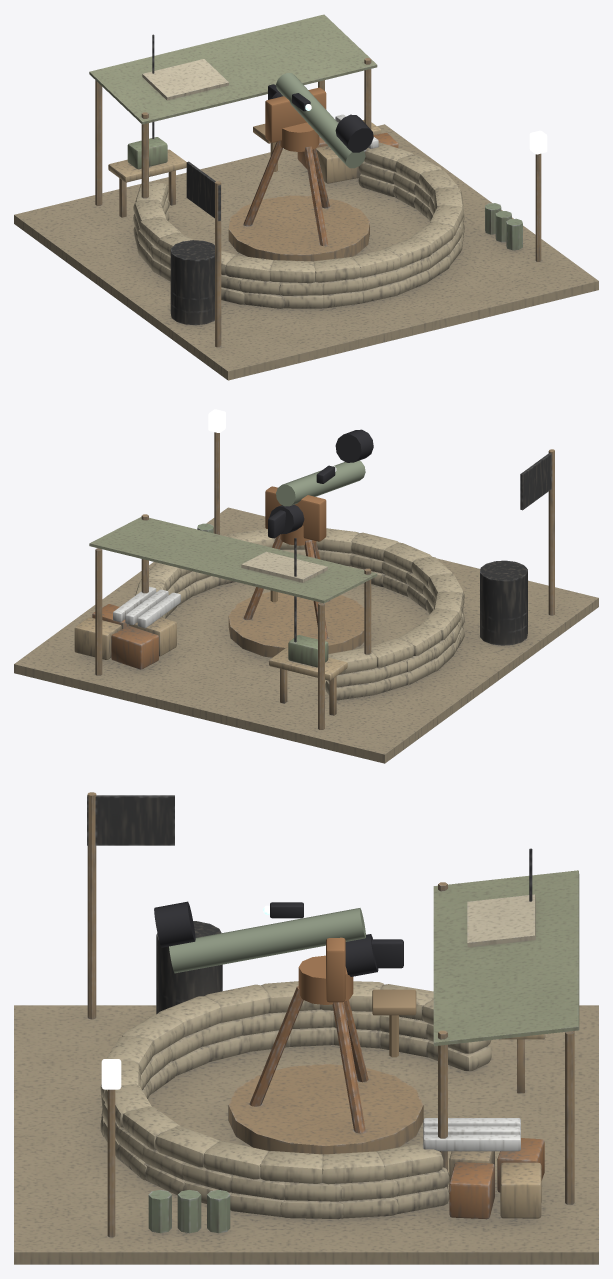
File: shadow_defense.glb
The picture shows the model from 3 angles, top to bottom: view 1: azimuth 30°, elevation 25°; view 2: azimuth 150°, elevation 25°; view 3: azimuth 270°, elevation 25°; orthographic projection. The views are drawn at different scales.
Visible parts, largest first — view 1: Hull, Barrel, Turret; view 2: Hull, Barrel, Turret; view 3: Hull, Barrel, Turret.
Part boxes in pixels (bbox=[...]): Hull: bbox=[14, 14, 598, 380]; Barrel: bbox=[271, 73, 373, 168]; Turret: bbox=[253, 84, 326, 171]; Hull: bbox=[14, 409, 598, 763]; Barrel: bbox=[269, 429, 373, 534]; Turret: bbox=[265, 486, 326, 602]; Hull: bbox=[14, 792, 598, 1264]; Barrel: bbox=[154, 901, 378, 976]; Turret: bbox=[298, 937, 416, 1057].
Bounding box in the file's own units: 6 × 2.77 × 6.
20 materials, 15 textured.
